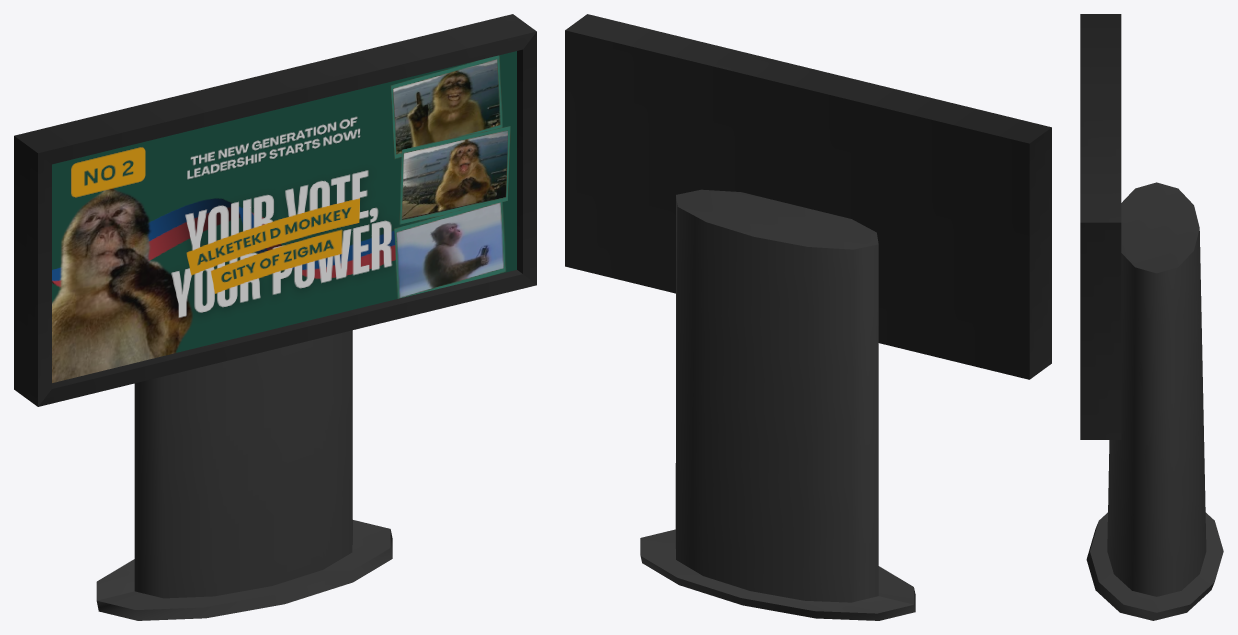
The model's file is Paslon2.fbx.
3 renders of one model, left to right at view 1: azimuth 30°, elevation 25°; view 2: azimuth 150°, elevation 25°; view 3: azimuth 270°, elevation 25°, orthographic. The views are drawn at different scales.
Parts seen in each view (by area): view 1: Cylinder.003; view 2: Cylinder.003; view 3: Cylinder.003.
Part boxes in pixels (bbox=[...]): Cylinder.003: bbox=[14, 14, 536, 620]; Cylinder.003: bbox=[565, 14, 1051, 620]; Cylinder.003: bbox=[1080, 14, 1223, 620].
Size of the model in its own units: 2593 by 2556 by 754.
2 materials, 2 textured.
